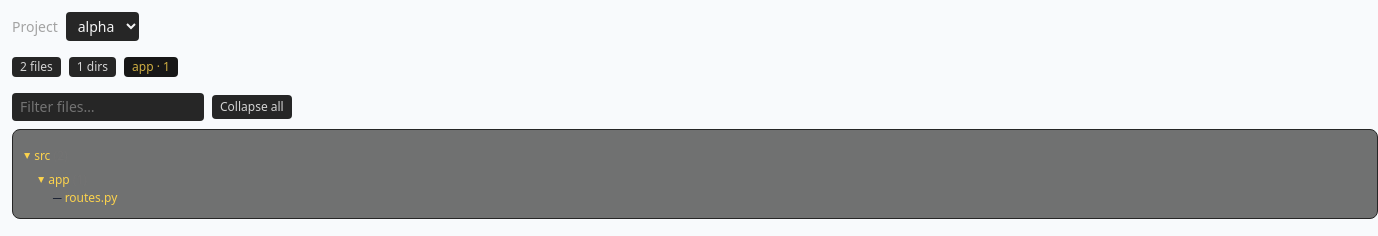
Test: ArchitectureMap › collapses and expands directories
Expected: the text "routes.py" is shown, x1=65 y1=189 x2=117 y2=206
Click the button "▸ app (1)" at [56, 180], box x1=25 y1=172 x2=87 y2=188
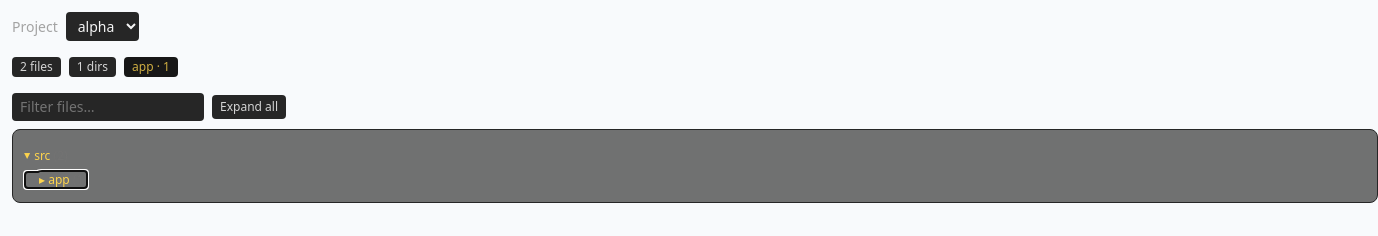
Now the text "routes.py" is gone
Click the button "▸ app (1)" at [56, 180], box x1=25 y1=172 x2=87 y2=188
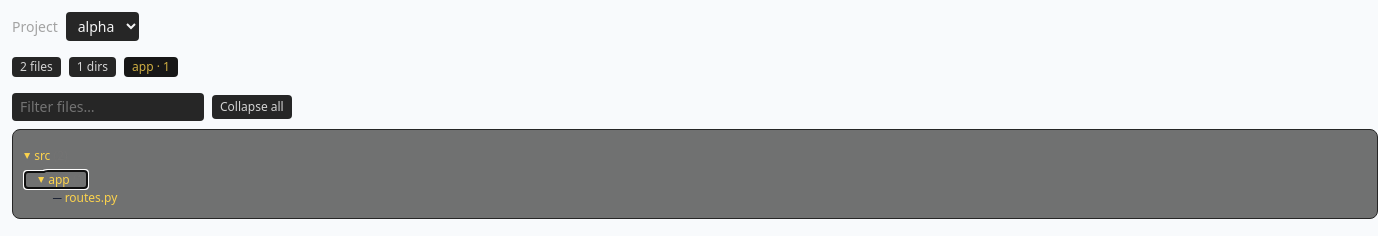
Now the text "routes.py" is shown, box x1=65 y1=189 x2=117 y2=206
